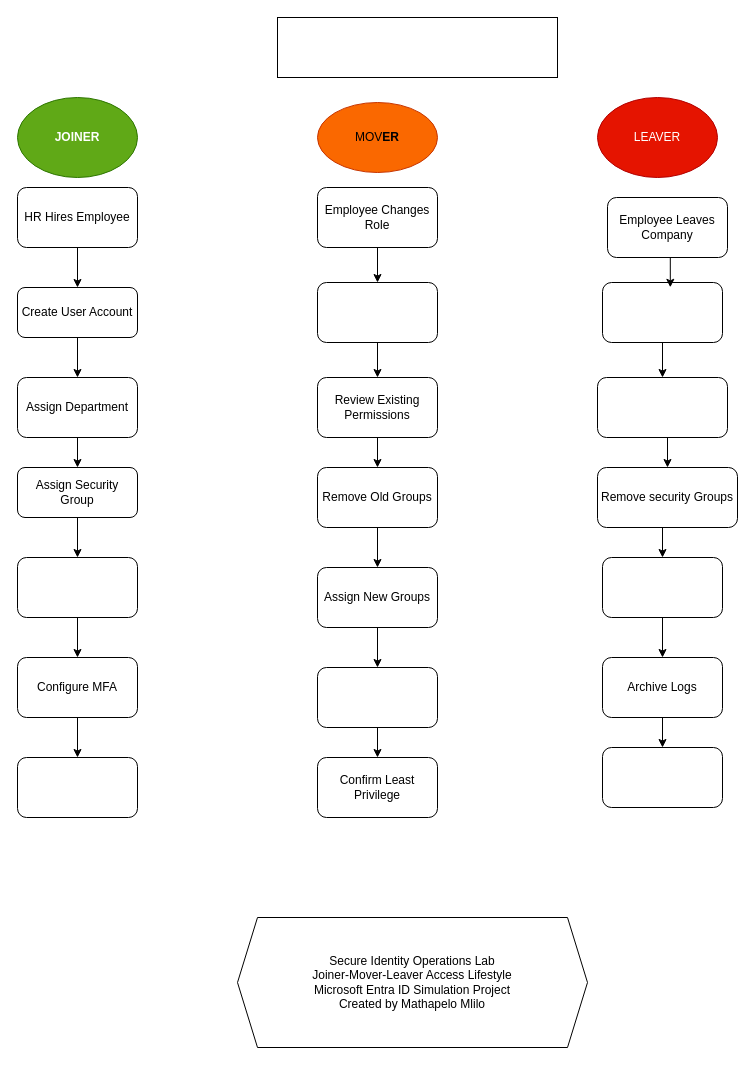
Image size: 755x1065. Some labels were removed from this diagram. The shapes that lost their labels are listed below. From the top down, each one's centre as x and y in pixels, then its label:
the point at 417,47: Seure Solutions - Identity Lifecycle (JML)
the point at 377,312: Manager Requests Access Changes
the point at 662,312: Disable Account
the point at 662,407: Block Sign-in
the point at 77,587: Assign RBAC Role
the point at 662,587: Remove Licenses
the point at 377,697: Update RBAC Roles
the point at 77,787: Employee starts work
the point at 662,777: Delete Account After Retention
